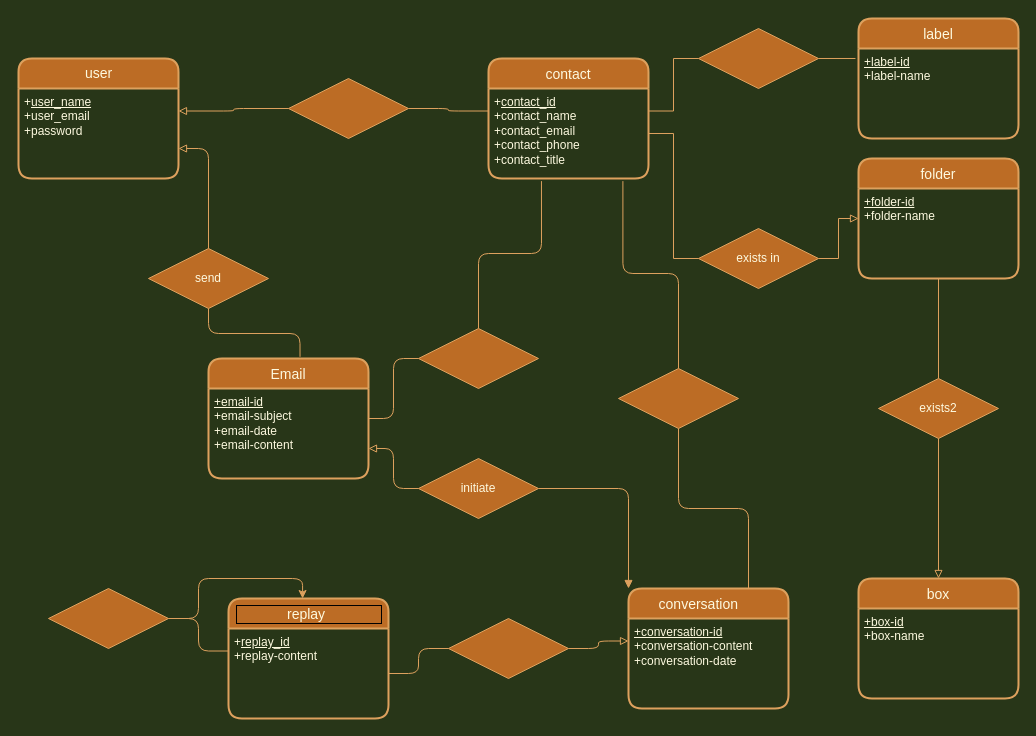
Image size: 1036x736. Some labels were removed from this diagram. Each missing label, with the centre of its shape:
"add" belongs at pixel 348 108.
"includes" belongs at pixel 508 648.
"labeled by" belongs at pixel 758 58.
"participate" belongs at pixel 678 398.
"receives" belongs at pixel 478 358.
"replays" belongs at pixel 108 618.
